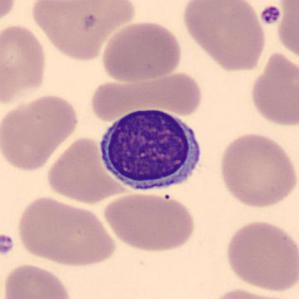Lymphocyte: (93, 103, 207, 197)
Platelets: (258, 3, 283, 26), (0, 232, 16, 257)
RBC: (14, 194, 118, 268), (28, 0, 140, 63), (0, 92, 81, 172), (216, 130, 297, 210), (179, 0, 268, 72), (102, 190, 198, 254), (44, 135, 126, 204), (223, 218, 298, 293), (99, 19, 184, 84), (0, 21, 49, 108), (248, 49, 298, 129), (142, 69, 204, 117), (1, 261, 75, 299), (275, 1, 298, 64), (204, 286, 294, 299), (0, 0, 19, 30)
